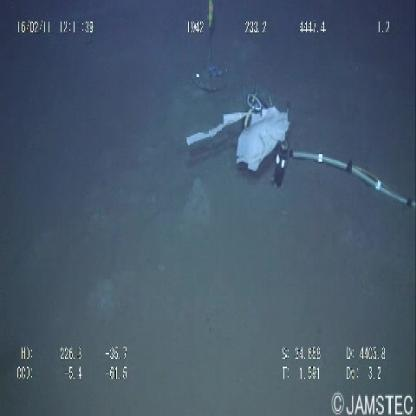Rác: (188, 94, 296, 179)
